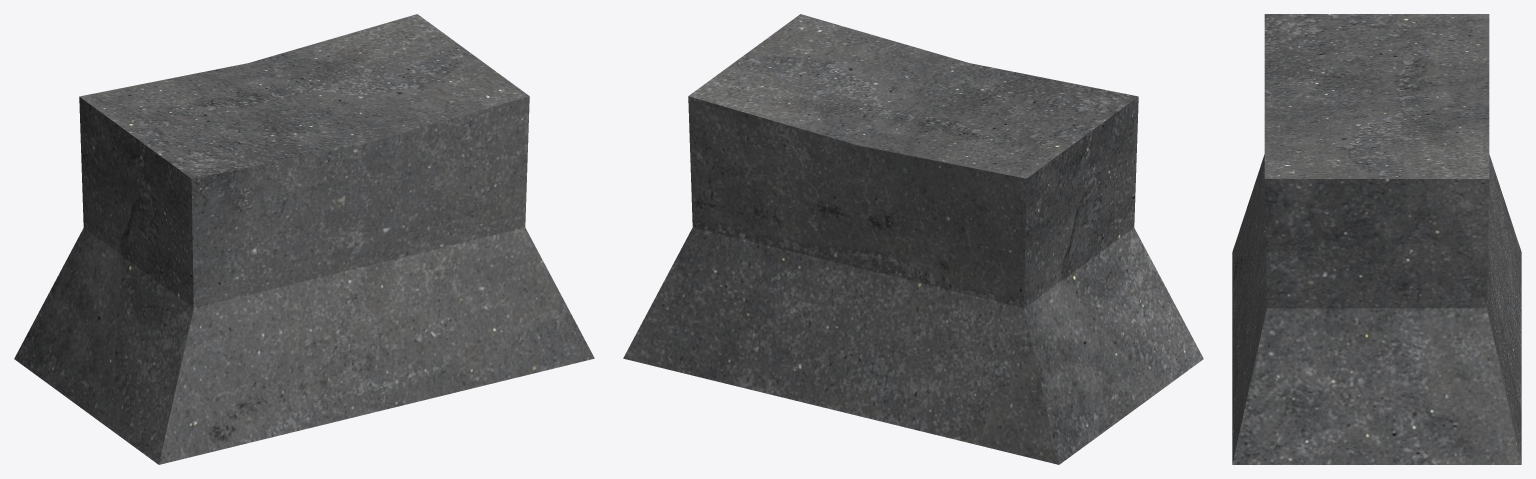
File: roadblock1.fbx
3 renders of one model, left to right at view 1: azimuth 30°, elevation 25°; view 2: azimuth 150°, elevation 25°; view 3: azimuth 270°, elevation 25°, orthographic.
Parts seen in each view (by area): view 1: Cube; view 2: Cube; view 3: Cube.
Boxes of the visible parts, bbox=[...] form: Cube: bbox=[14, 14, 594, 464]; Cube: bbox=[623, 14, 1203, 464]; Cube: bbox=[1232, 14, 1521, 464].
Bounding box in the file's own units: 348 × 200 × 200.
Materials: 1 (1 with a texture image).
